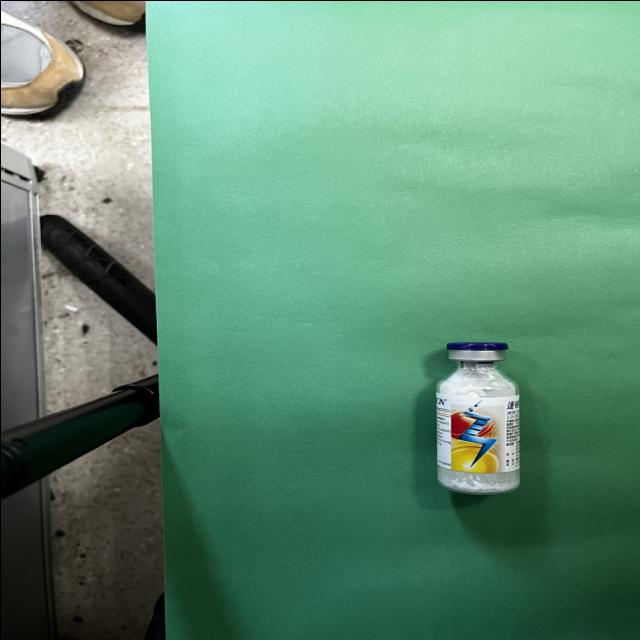Vials: (435, 342, 518, 493)
